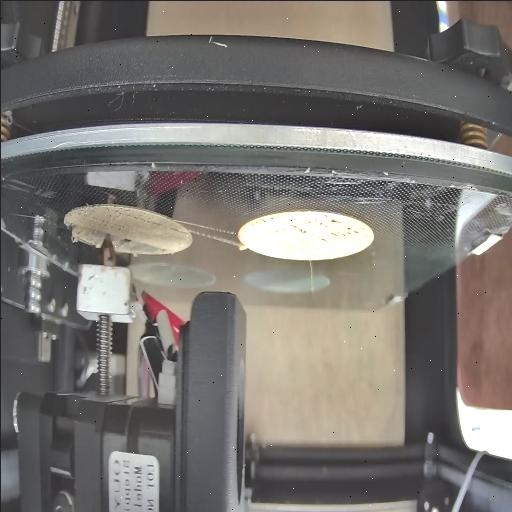under_extrusion: (250, 214, 366, 242), (114, 216, 186, 252), (66, 216, 88, 252)
